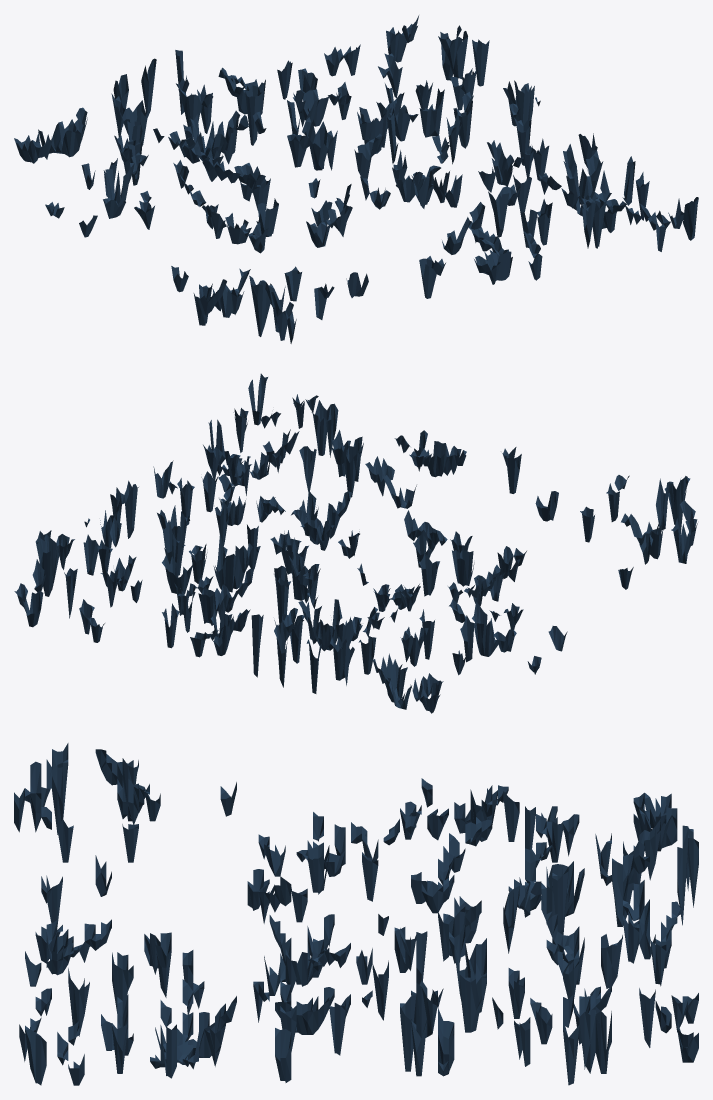
The model's file is landscape_INTERESSENCE_v4_rivers.obj.
The picture shows the model from 3 angles, top to bottom: view 1: azimuth 30°, elevation 25°; view 2: azimuth 150°, elevation 25°; view 3: azimuth 270°, elevation 25°; orthographic projection. The views are drawn at different scales.
Visible parts, largest first — view 1: rivers_INTERESSENCE; view 2: rivers_INTERESSENCE; view 3: rivers_INTERESSENCE.
Boxes of the visible parts, x1,y1,x2,y2 form: rivers_INTERESSENCE: (14, 15, 698, 343); rivers_INTERESSENCE: (14, 373, 697, 713); rivers_INTERESSENCE: (14, 743, 698, 1085).
Bounding box in the file's own units: 251 × 33.28 × 252.
